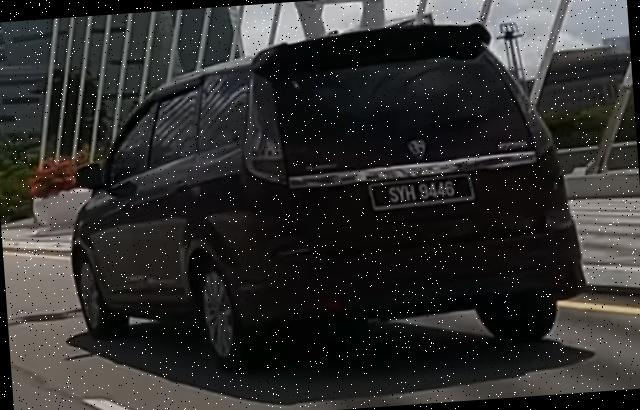License_Plate: (367, 172, 477, 212)
car: (54, 12, 592, 379)
